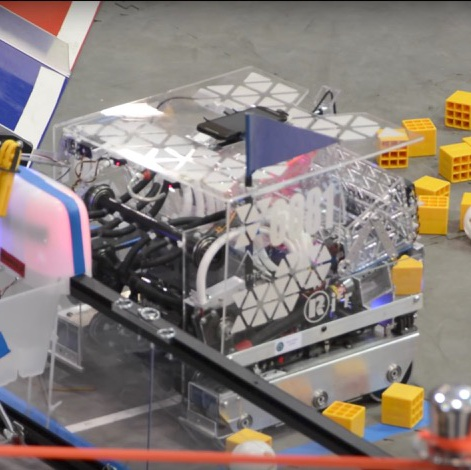robot: (44, 61, 426, 447)
